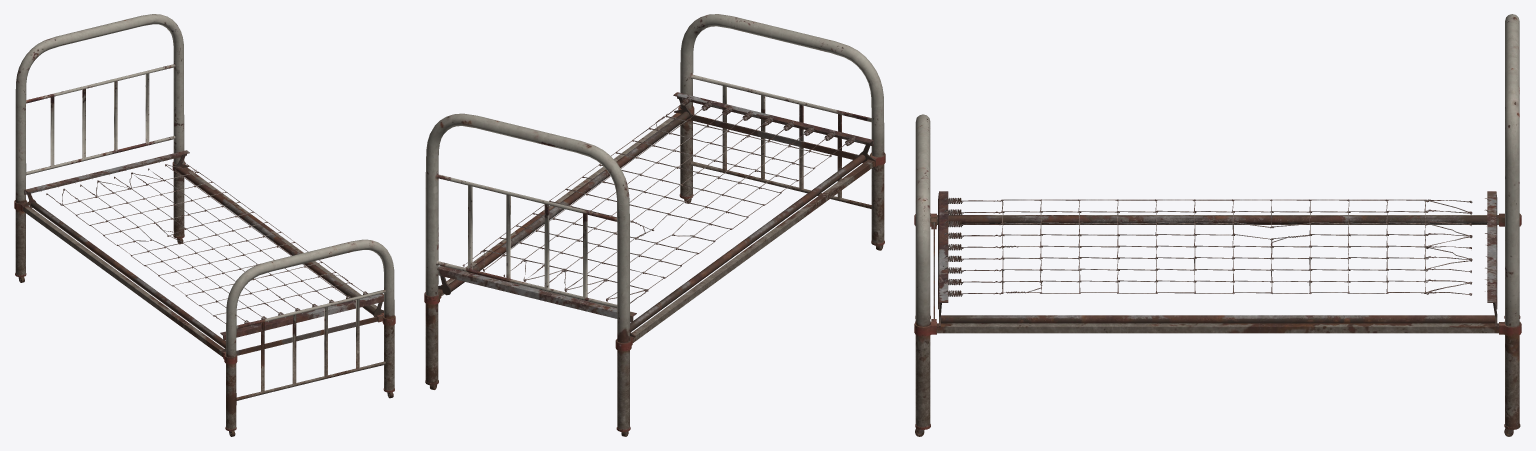
Rendered from old_bed_frame.glb.
3 views of the same model, side by side, from view 1: azimuth 30°, elevation 25°; view 2: azimuth 150°, elevation 25°; view 3: azimuth 270°, elevation 25° (orthographic). The views are drawn at different scales.
Visible parts, largest first — view 1: old_bed_frame; view 2: old_bed_frame; view 3: old_bed_frame.
Boxes of the visible parts, box(x1,y1,x2,y2) form: old_bed_frame: box(14, 14, 395, 436); old_bed_frame: box(424, 14, 885, 436); old_bed_frame: box(914, 14, 1521, 436).
Bounding box in the file's own units: 0.9047 × 1.2 × 2.
Materials: 1 (1 with a texture image).
